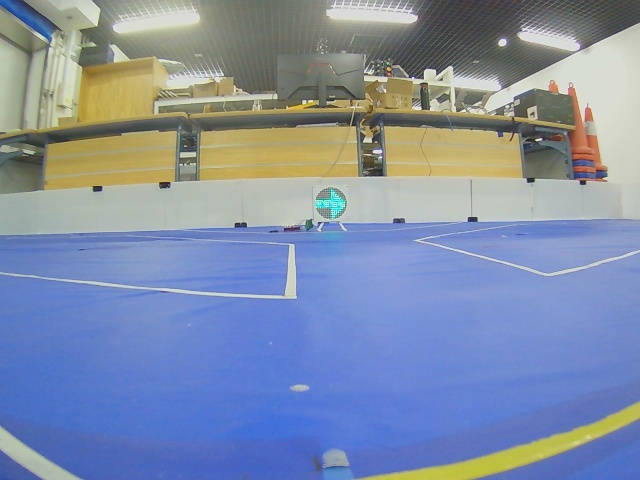right_green: (315, 187, 348, 220)
